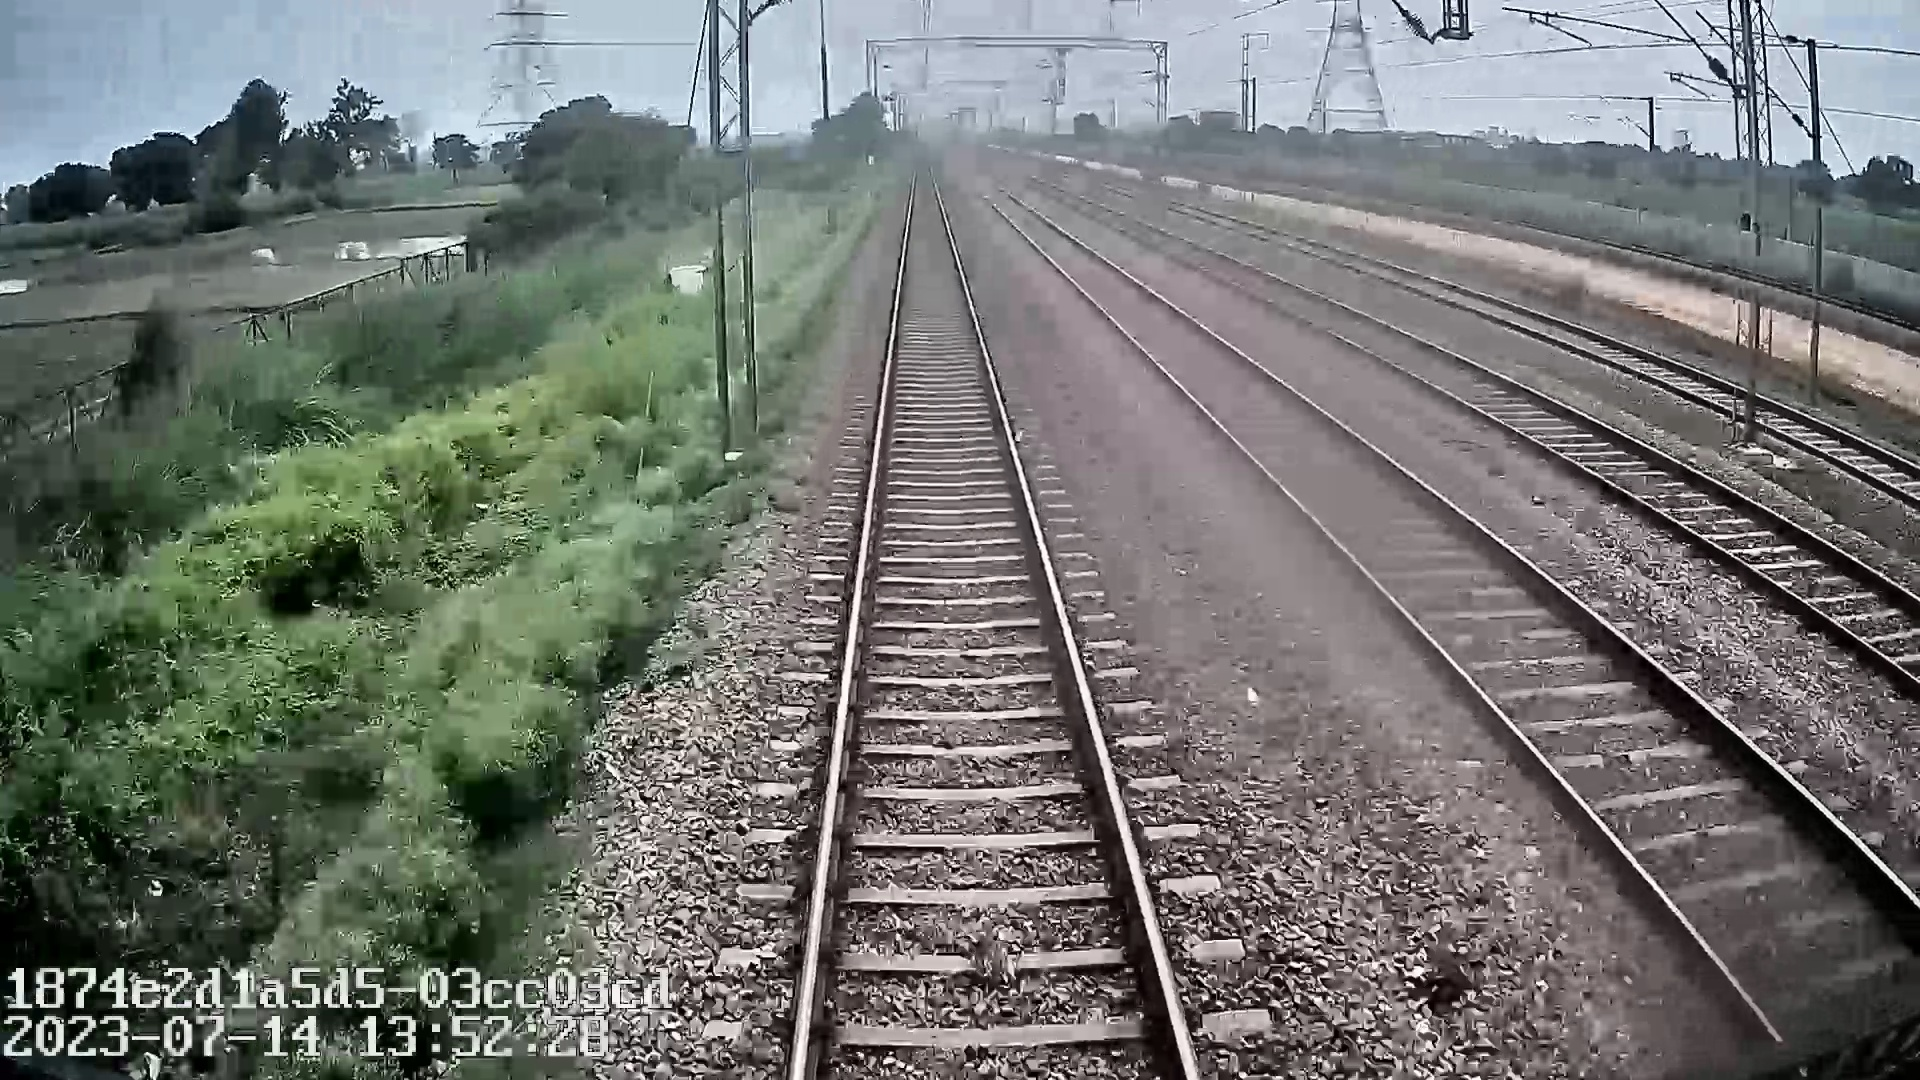track1: (796, 172, 1197, 1075)
track2: (974, 185, 1919, 1039)
track3: (1134, 229, 1918, 676)
track4: (1243, 225, 1918, 498)
